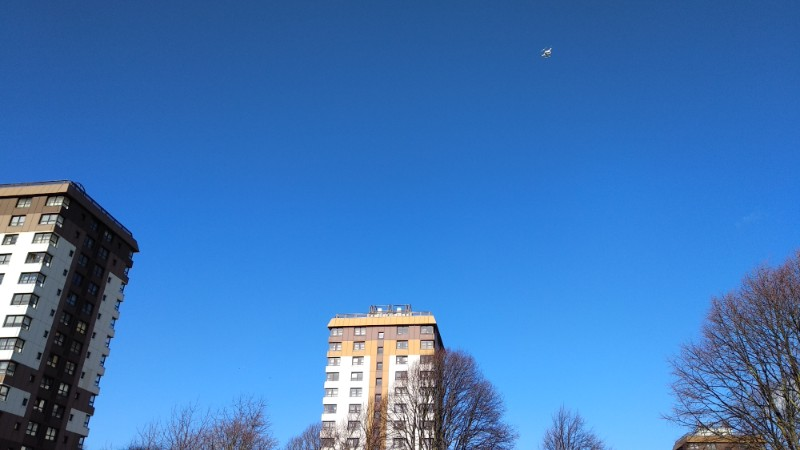drone: (540, 46, 554, 59)
